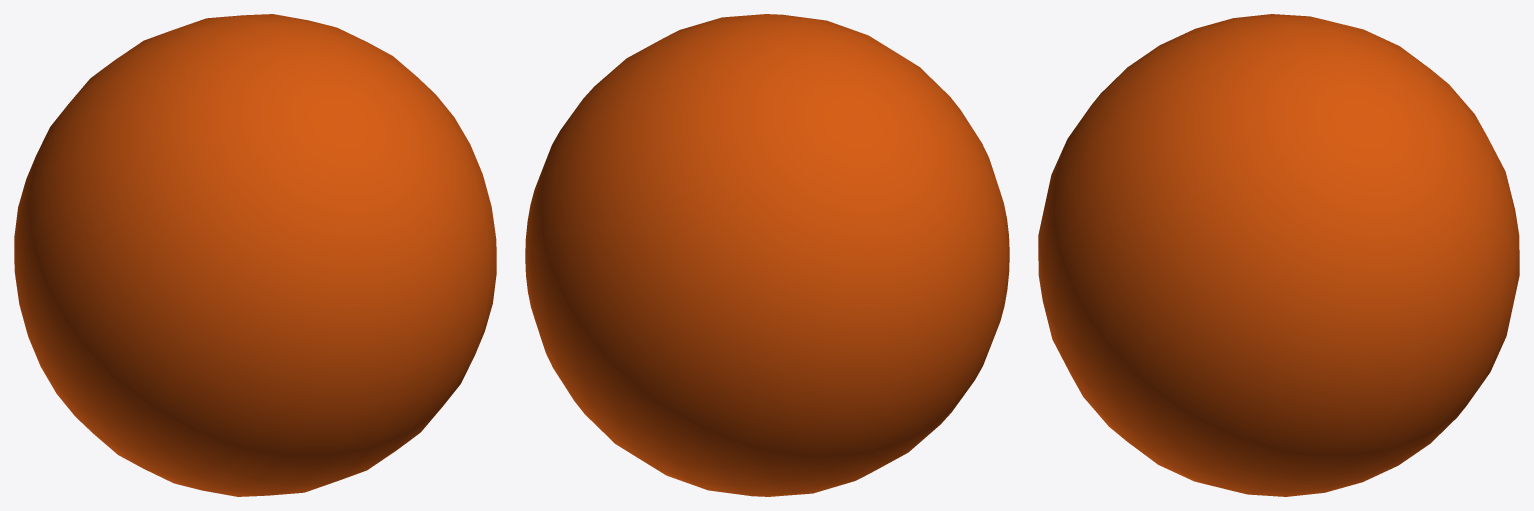
The model's file is pbrsphere.gltf.
The picture shows the model from 3 angles, left to right: view 1: azimuth 30°, elevation 25°; view 2: azimuth 150°, elevation 25°; view 3: azimuth 270°, elevation 25°; orthographic projection.
Parts seen in each view (by area): view 1: Sphere; view 2: Sphere; view 3: Sphere.
Part boxes in pixels (x1=…): Sphere: x1=14, y1=14, x2=496, y2=496; Sphere: x1=525, y1=14, x2=1009, y2=496; Sphere: x1=1038, y1=14, x2=1519, y2=496.
Bounding box in the file's own units: 2 × 1.99 × 1.99.
Materials: 1 (1 with a texture image).
